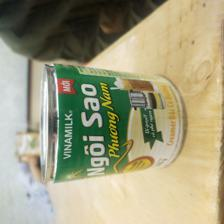NSPN_Lon: (32, 61, 190, 183)
